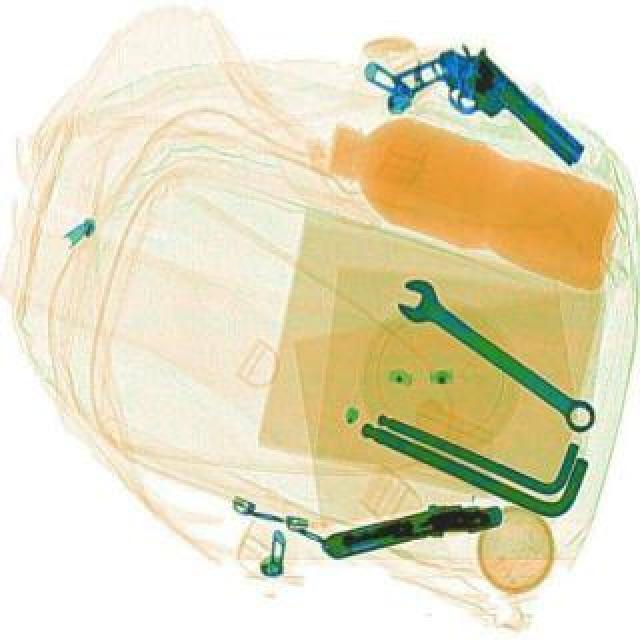gun: (386, 20, 590, 208), (318, 490, 506, 558)
scissors: (386, 272, 606, 438)
